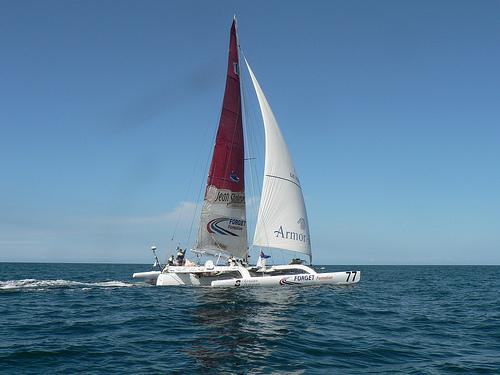Ship: (134, 15, 363, 287)
